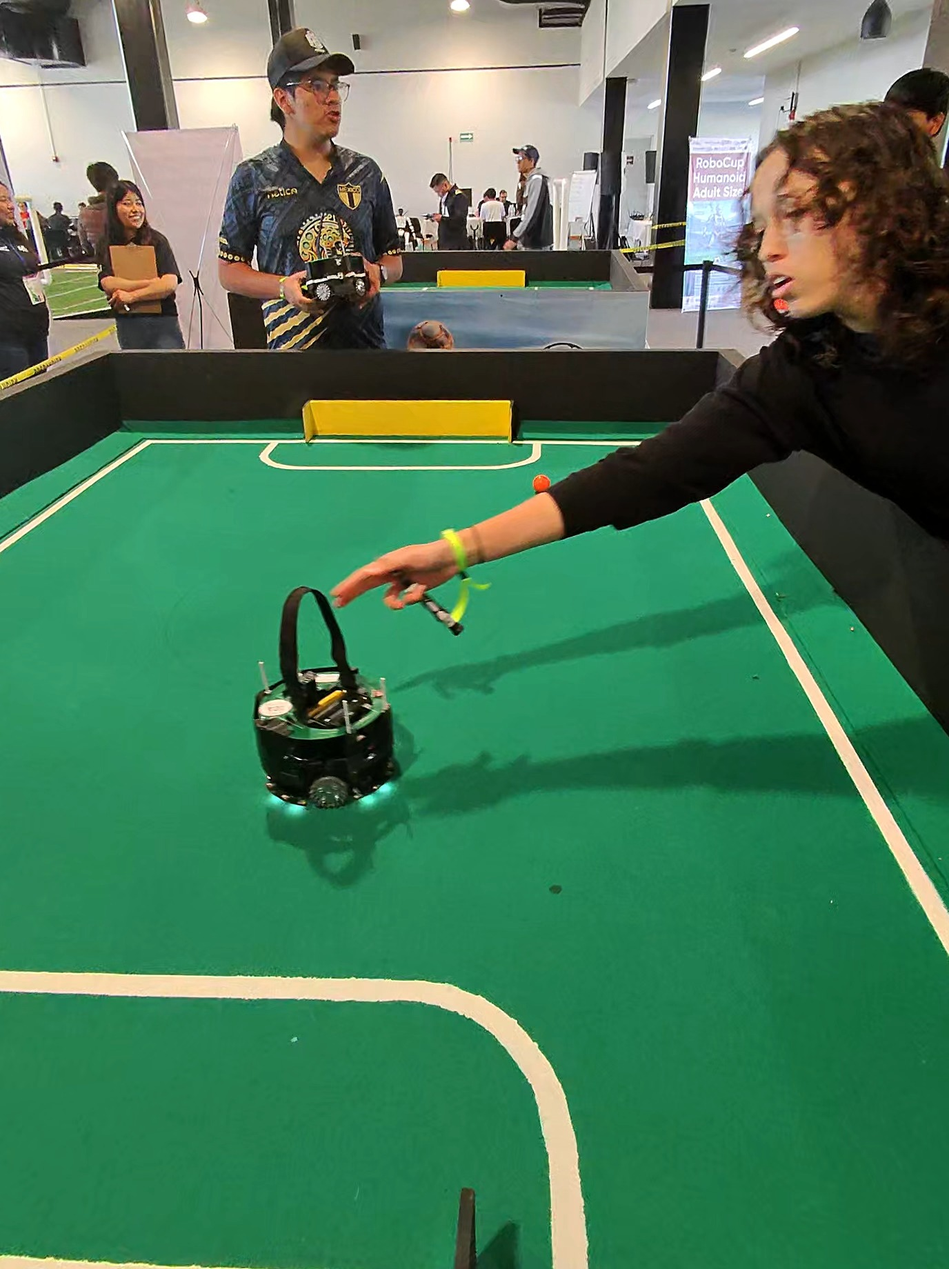Robot: (201, 567, 453, 828)
pelota: (529, 469, 557, 495)
